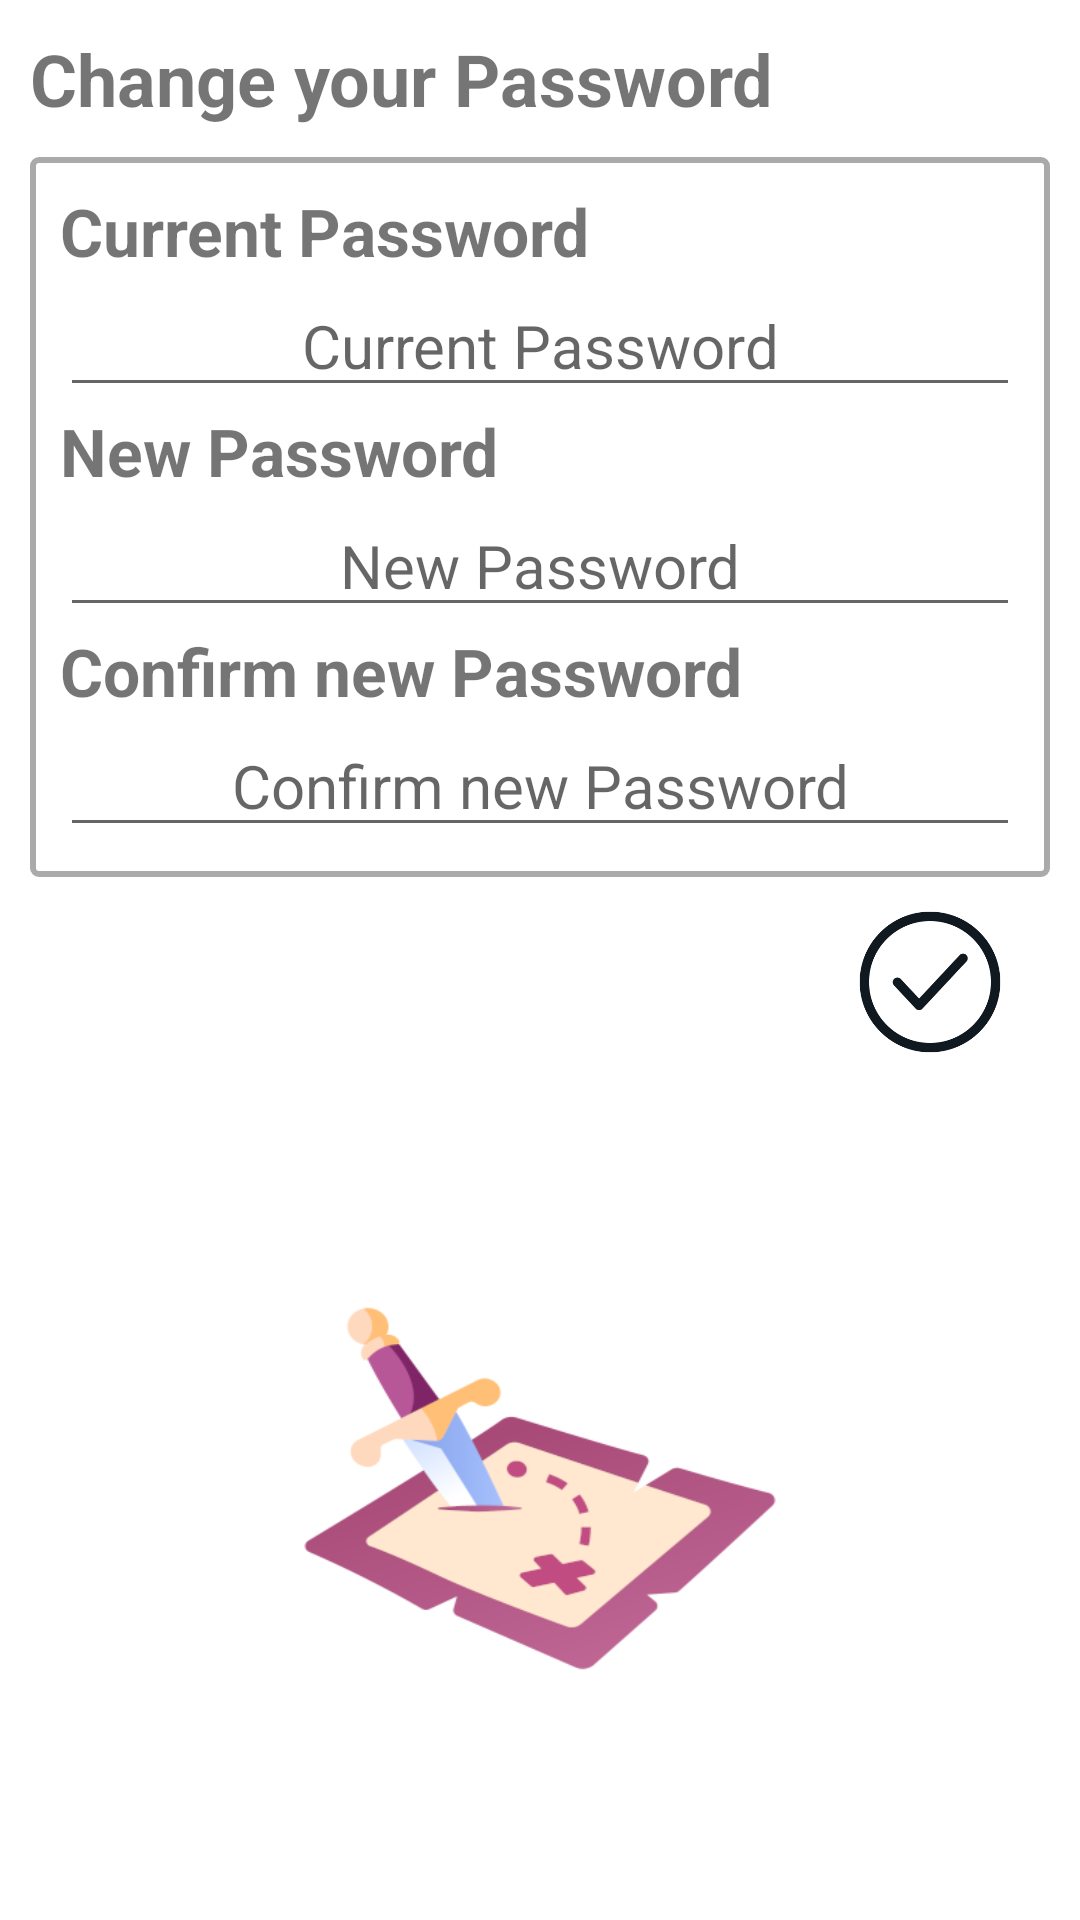

Screen size 1080px×1920px. Icon name, then its center in pixels as point (x, y):
Save: point (930, 982)
